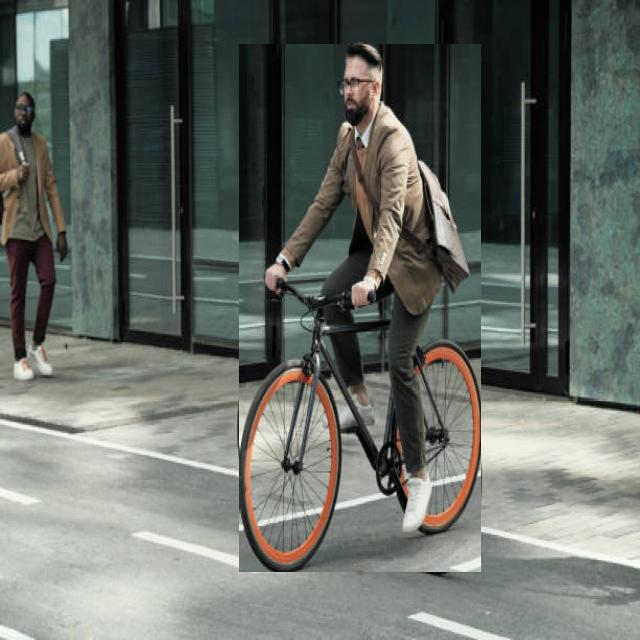bicycle: (239, 45, 481, 572)
